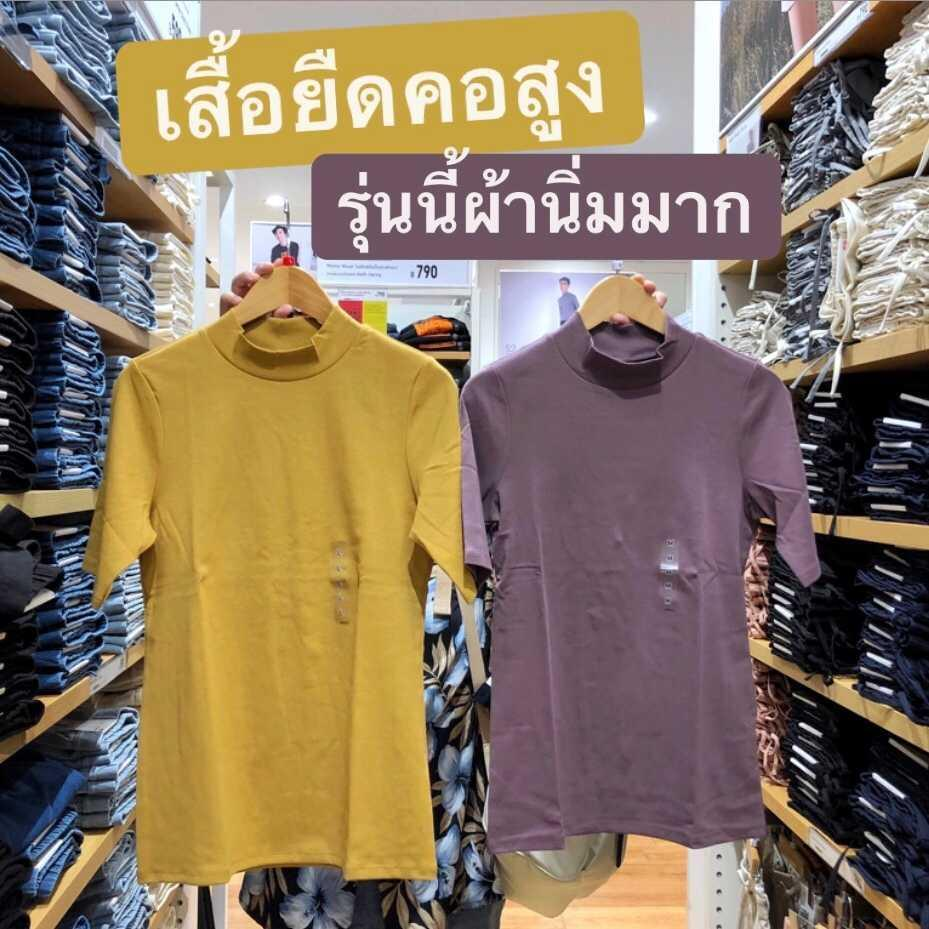Tshirt: (102, 308, 476, 892), (454, 301, 827, 849)
